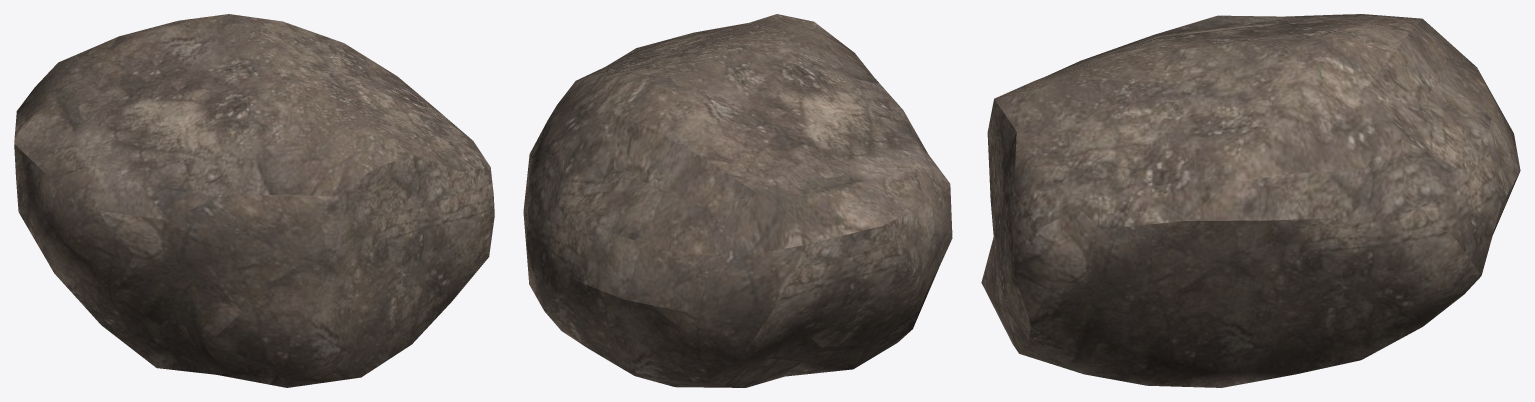
File: rock_01.glb
3 renders of one model, left to right at view 1: azimuth 30°, elevation 25°; view 2: azimuth 150°, elevation 25°; view 3: azimuth 270°, elevation 25°, orthographic. The views are drawn at different scales.
Parts seen in each view (by area): view 1: rock_01; view 2: rock_01; view 3: rock_01.
Part boxes in pixels (left/top/right/bottom): rock_01: left=14, top=14, right=494, bottom=387; rock_01: left=523, top=14, right=952, bottom=387; rock_01: left=981, top=14, right=1520, bottom=387.
Size of the model in its own units: 0.4415 by 0.2992 by 0.478.
Materials: 1 (1 with a texture image).
